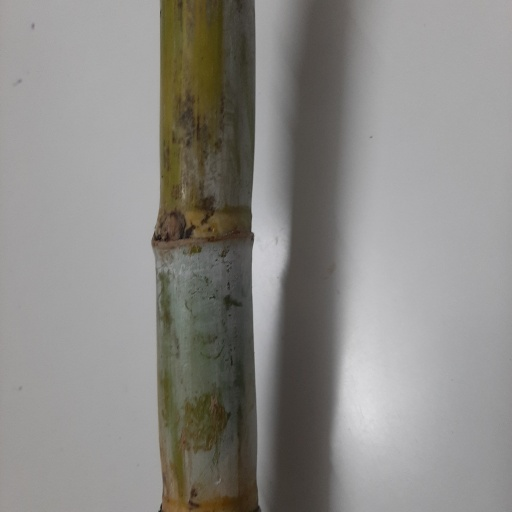Bud: (159, 212, 184, 241)
